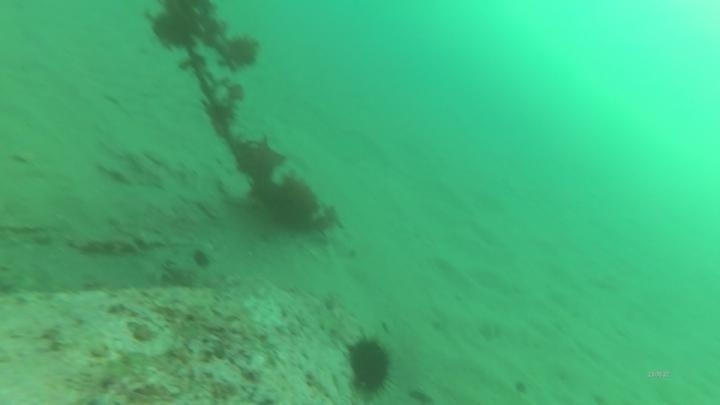echinus: (342, 332, 398, 399)
holothurian: (66, 219, 167, 259)
